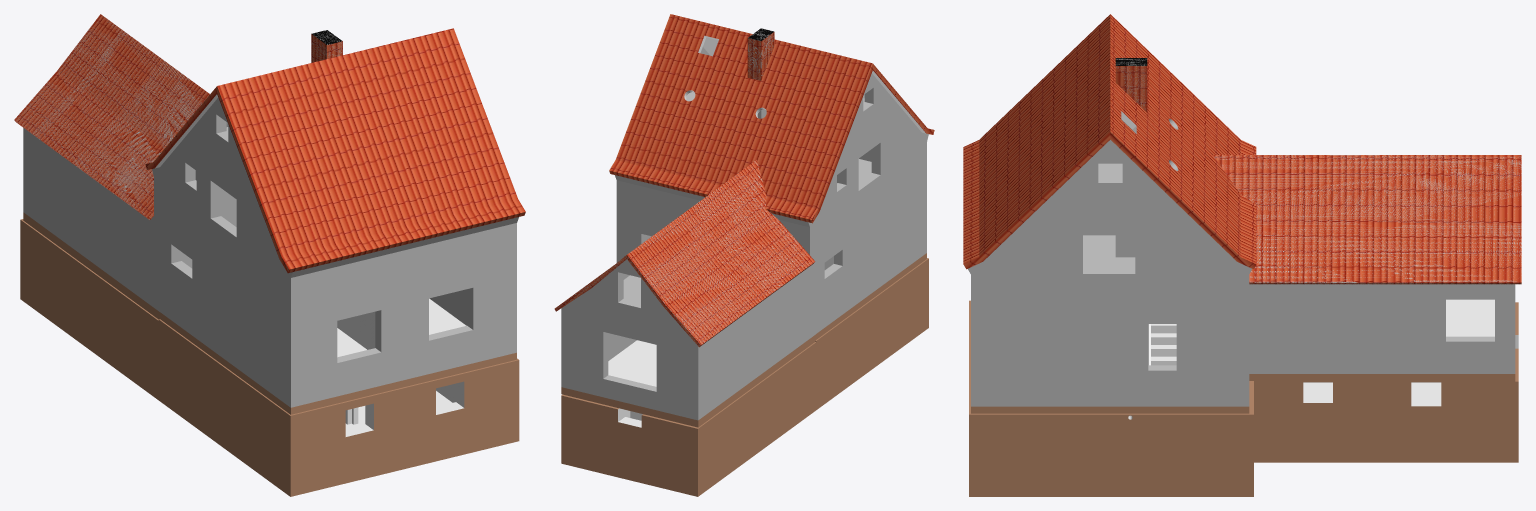
Rendered from haus.dae.
3 renders of one model, left to right at view 1: azimuth 30°, elevation 25°; view 2: azimuth 150°, elevation 25°; view 3: azimuth 270°, elevation 25°, orthographic. The views are drawn at different scales.
Visible parts, largest first — view 1: Außenwand_links (×7), Vorn, Außenwand_vorn (×5), Links, Boden (×5), Außenwand_hinten (×2), Trennwand_Schlafzimmer_Küche, Außenwand_rechts, Hinten, Schlot; view 2: Außenwand_links (×7), Hinten, Außenwand_hinten (×7), Links, Boden (×6), Außenwand_vorn (×3), Schlot, Vorn (×2), Außenwand_rechts, Rechts; view 3: Außenwand_rechts (×6), Rechts, Vorn, Hinten, Boden (×5), Außenwand_hinten (×4), Außenwand_vorn (×2), Schlot.
Boxes of the visible parts, x1=… form: Außenwand_links (×7): x1=28, y1=97, x2=284, y2=490; Vorn: x1=217, y1=28, x2=525, y2=273; Außenwand_vorn (×5): x1=150, y1=217, x2=519, y2=496; Links: x1=14, y1=14, x2=209, y2=219; Boden (×5): x1=23, y1=127, x2=516, y2=414; Außenwand_hinten (×2): x1=20, y1=128, x2=29, y2=304; Trennwand_Schlafzimmer_Küche: x1=337, y1=311, x2=375, y2=349; Außenwand_rechts: x1=429, y1=289, x2=467, y2=325; Hinten: x1=145, y1=86, x2=216, y2=169; Schlot: x1=311, y1=34, x2=342, y2=62; Außenwand_links (×7): x1=703, y1=73, x2=921, y2=491; Hinten: x1=609, y1=14, x2=872, y2=223; Außenwand_hinten (×7): x1=561, y1=175, x2=815, y2=496; Links: x1=627, y1=160, x2=815, y2=347; Boden (×6): x1=561, y1=92, x2=926, y2=427; Außenwand_vorn (×3): x1=808, y1=258, x2=928, y2=415; Schlot: x1=747, y1=32, x2=774, y2=80; Vorn (×2): x1=703, y1=37, x2=934, y2=134; Außenwand_rechts: x1=608, y1=333, x2=636, y2=360; Rechts: x1=554, y1=255, x2=626, y2=311; Außenwand_rechts (×6): x1=983, y1=140, x2=1503, y2=496; Rechts: x1=1213, y1=155, x2=1521, y2=284; Vorn: x1=963, y1=14, x2=1110, y2=269; Hinten: x1=1110, y1=14, x2=1256, y2=269; Boden (×5): x1=971, y1=163, x2=1515, y2=413; Außenwand_hinten (×4): x1=1237, y1=285, x2=1518, y2=496; Außenwand_vorn (×2): x1=969, y1=300, x2=985, y2=496; Schlot: x1=1115, y1=66, x2=1147, y2=112.
Size of the model in its own units: 271 by 541 by 405.
Materials: 5 (1 with a texture image).
